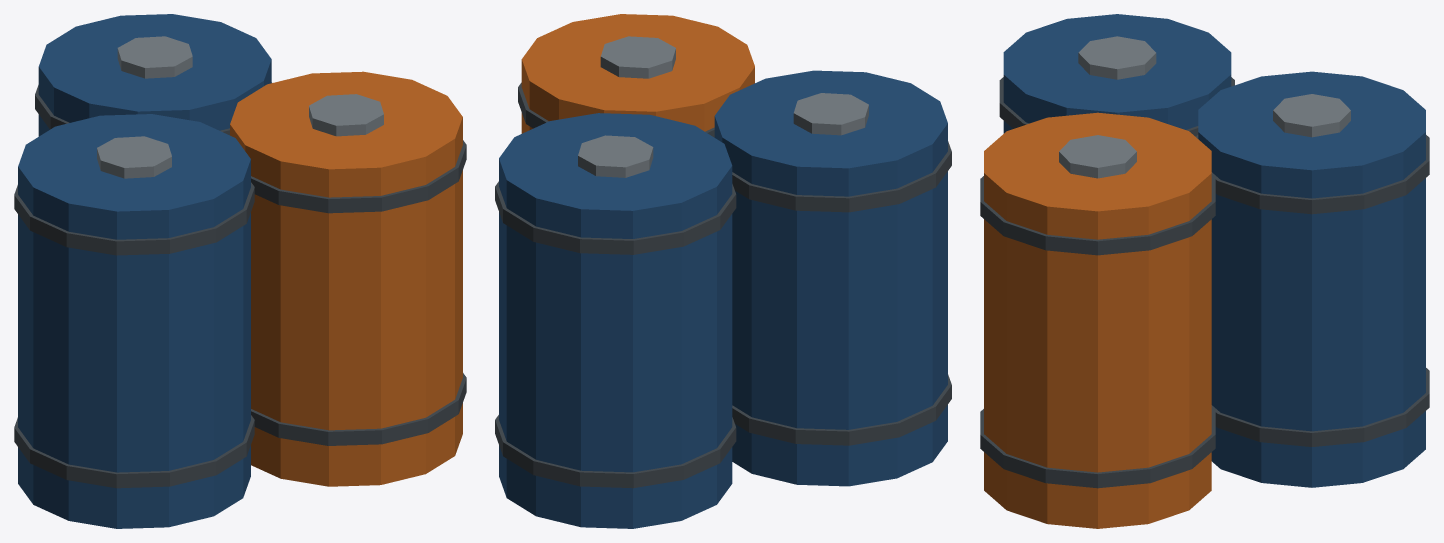
File: decor_3.fbx
3 views of the same model, side by side, from view 1: azimuth 30°, elevation 25°; view 2: azimuth 150°, elevation 25°; view 3: azimuth 270°, elevation 25° (orthographic).
Parts seen in each view (by area): view 1: decor_3; view 2: decor_3; view 3: decor_3.
Boxes of the visible parts, x1,y1,x2,y2 form: decor_3: [14, 14, 466, 528]; decor_3: [495, 14, 951, 528]; decor_3: [980, 14, 1429, 528].
Bounding box in the file's own units: 1.22 × 0.93 × 1.15.
